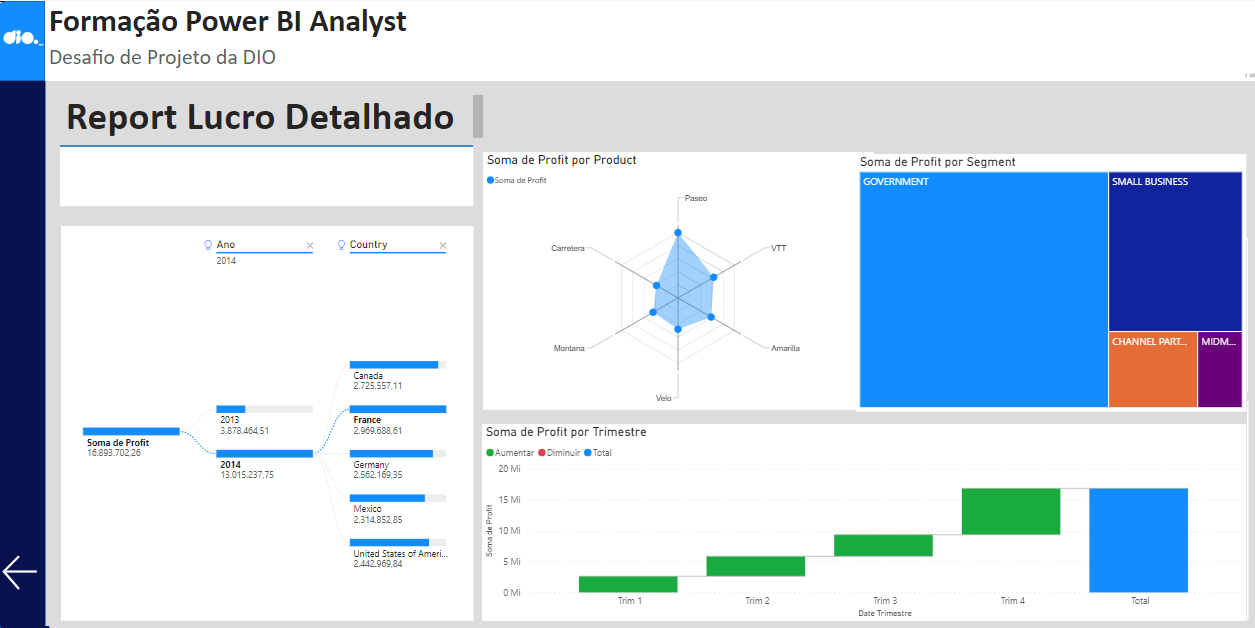

The page's visual inventory and layout, read from the dashboard file:
{"tool":"powerbi","page":{"name":"Formação Power BI Analyst - PG2","canvas":[1700,850],"ordinal":5},"visuals":[{"type":"group","id":"g1","title":"Cartões","box":[0,0,1700,851],"z":0},{"type":"ChicletSlicer1448559807354","title":"Filtro por ano","fields":{"Category":["financials.Date.Variation.Hierarquia de datas.Ano"]},"box":[85.9,197,557.6,79.7],"z":1000},{"type":"shape","box":[0,0,67.1,851],"z":2000,"group":"g1"},{"type":"decompositionTreeVisual","fields":{"ExplainBy":["financials.Date.Variation.Hierarquia de datas.Ano","financials.Country"],"Analyze":["Sum(financials.Profit)"]},"box":[87.5,304.2,556.7,532.9],"z":2000},{"type":"shape","box":[85.9,186.6,557.6,18.9],"z":3000,"group":"g1"},{"type":"RadarChart1446119667547","fields":{"Y":["Sum(financials.Profit)"],"Category":["financials.Product"]},"box":[657,204.5,526.6,347.7],"z":3000},{"type":"shape","box":[643.7,127.4,13.6,57.7],"z":4000,"group":"g1"},{"type":"treemap","fields":{"Values":["Sum(financials.Profit)"],"Group":["financials.Segment"]},"box":[1160.6,207.1,526.6,347.7],"z":4000},{"type":"waterfallChart","fields":{"Y":["Sum(financials.Profit)"],"Category":["financials.Date.Variation.Hierarquia de datas.Trimestre"]},"box":[656.1,570.6,1031.9,266.4],"z":5000},{"type":"actionButton","title":"Botão - Voltar","box":[1.8,742.5,62.2,58.6],"z":6000},{"type":"textbox","title":"Sales Report","box":[84.9,117.2,543.5,88.3],"z":10250,"group":"g1"},{"type":"textbox","title":"Formação Power BI Analyst","box":[66.2,0,1633.8,107.5],"z":10500,"group":"g1"},{"type":"shape","box":[0,0,65.9,107.7],"z":10750,"group":"g1"},{"type":"image","title":"LOGO_DIO","box":[3.4,17,66.3,62.9],"z":11000,"group":"g1"}]}

Visuals, with their boxes on the page's 1700x850 design canvas (x1, y1, x2, y2). These are canvas units, not pixel positions in the 1255x628 screenshot, which may show the page scaled, cropped or inside an application window:
"Cartões" group: {"x1": 0, "y1": 0, "x2": 1700, "y2": 851}
"Filtro por ano" ChicletSlicer1448559807354: {"x1": 86, "y1": 197, "x2": 644, "y2": 277}
shape: {"x1": 0, "y1": 0, "x2": 67, "y2": 851}
decompositionTreeVisual - financials.Date.Variation.Hierarquia de datas.Ano x financials.Country: {"x1": 88, "y1": 304, "x2": 644, "y2": 837}
shape: {"x1": 86, "y1": 187, "x2": 644, "y2": 206}
RadarChart1446119667547 - Sum(financials.Profit) x financials.Product: {"x1": 657, "y1": 204, "x2": 1184, "y2": 552}
shape: {"x1": 644, "y1": 127, "x2": 657, "y2": 185}
treemap - Sum(financials.Profit) x financials.Segment: {"x1": 1161, "y1": 207, "x2": 1687, "y2": 555}
waterfallChart - Sum(financials.Profit) x financials.Date.Variation.Hierarquia de datas.Trimestre: {"x1": 656, "y1": 571, "x2": 1688, "y2": 837}
"Botão - Voltar" actionButton: {"x1": 2, "y1": 742, "x2": 64, "y2": 801}
"Sales Report" textbox: {"x1": 85, "y1": 117, "x2": 628, "y2": 206}
"Formação Power BI Analyst" textbox: {"x1": 66, "y1": 0, "x2": 1700, "y2": 108}
shape: {"x1": 0, "y1": 0, "x2": 66, "y2": 108}
"LOGO_DIO" image: {"x1": 3, "y1": 17, "x2": 70, "y2": 80}
